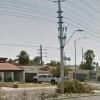Tree: (11, 40, 33, 70)
